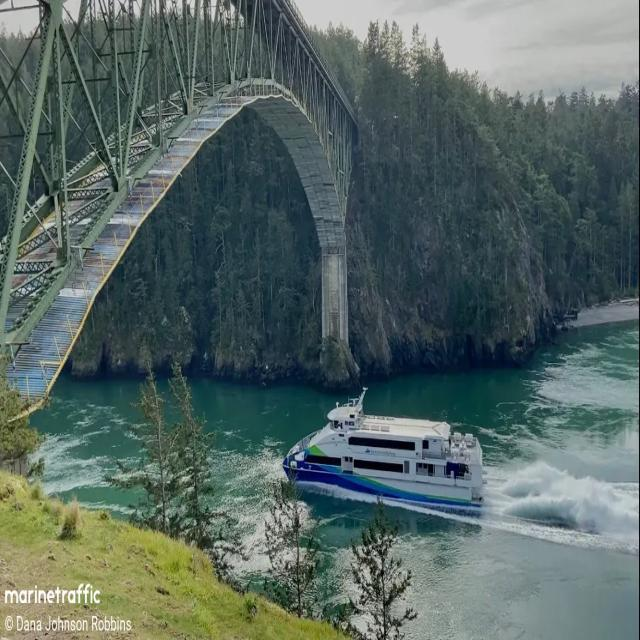Passenger: (283, 388, 486, 512)
